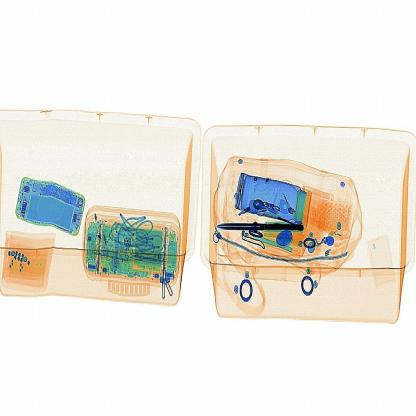gun: (216, 202, 307, 242)
